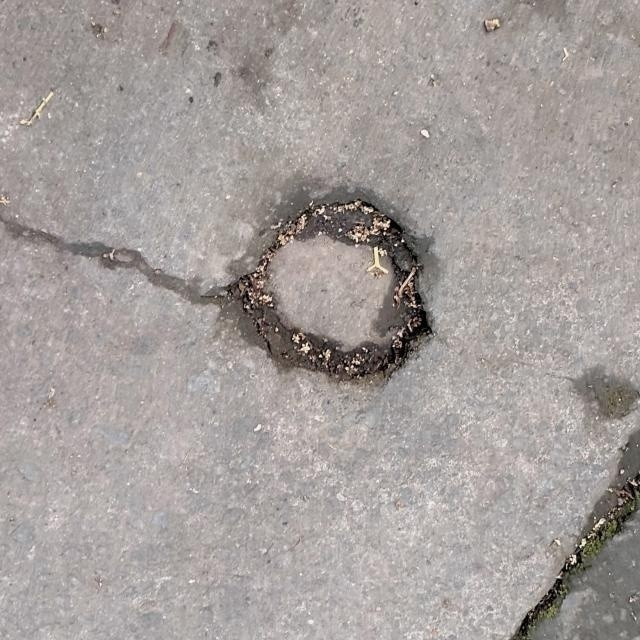pothole: (196, 124, 457, 438)
